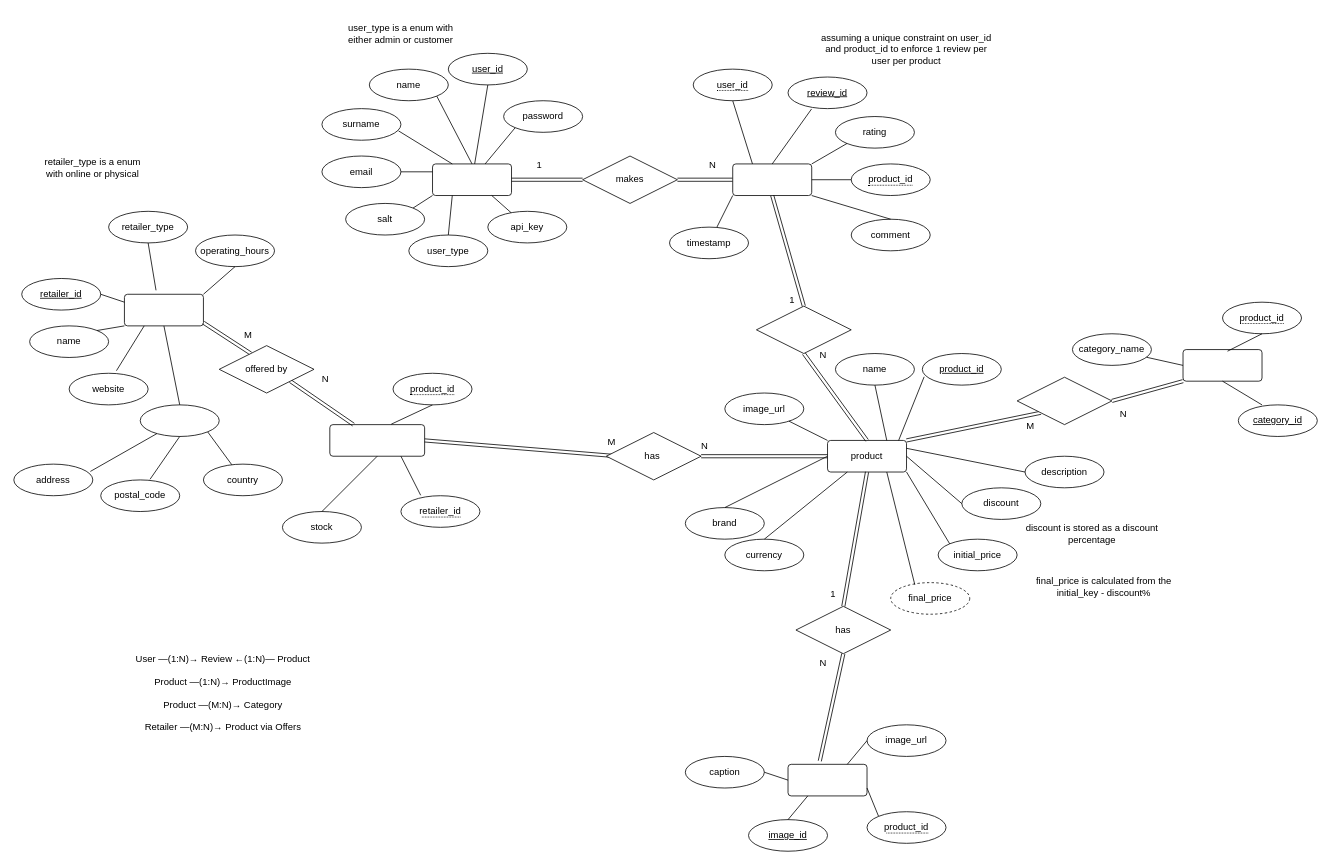
This 1331x865 diagram has some shape labels left out. Here are the shapes that lost their labels. From the top down, the box of each, then its label:
(432, 163, 512, 196): users
(732, 163, 812, 196): review
(124, 293, 203, 326): retailer
(756, 305, 851, 354): has a
(1182, 349, 1262, 381): category
(139, 404, 219, 436): location
(1016, 376, 1112, 425): belongs to
(329, 424, 425, 456): offers
(787, 764, 867, 796): product_images
